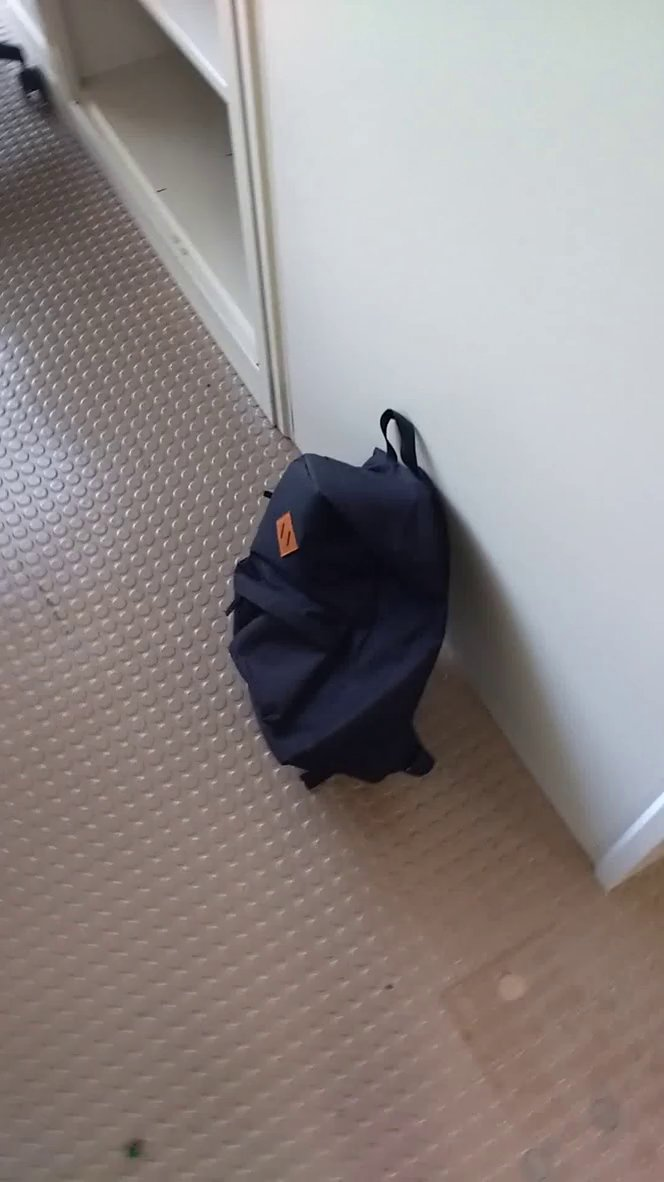bag: (208, 398, 476, 817)
